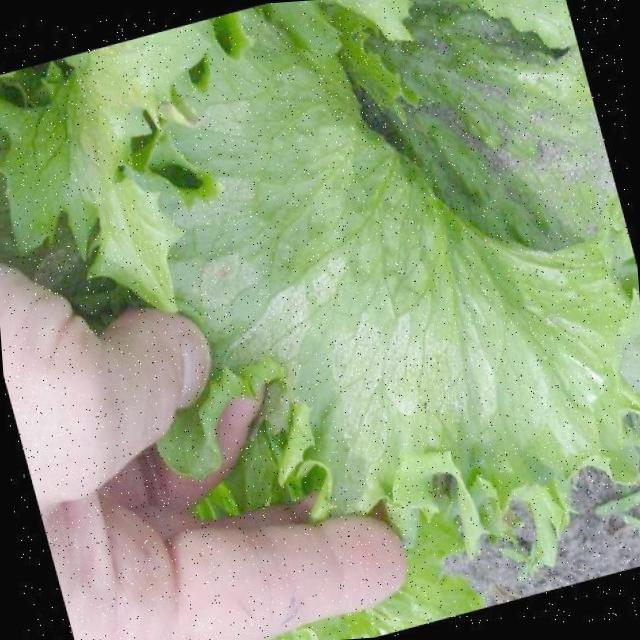Powdery_Mildew: (243, 156, 532, 477)
